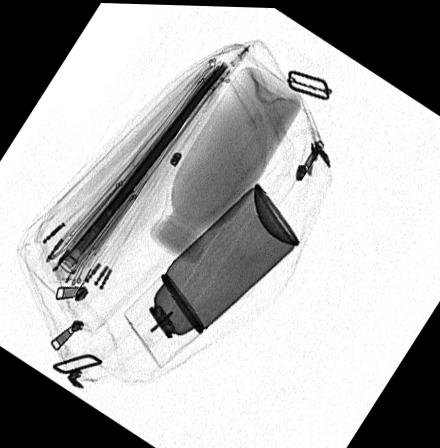Sprayer: (122, 180, 299, 365)
